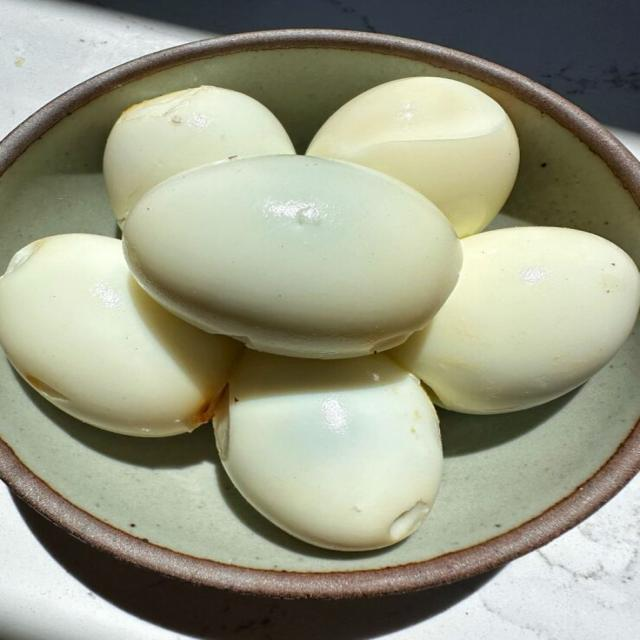eggs: (58, 91, 640, 539)
